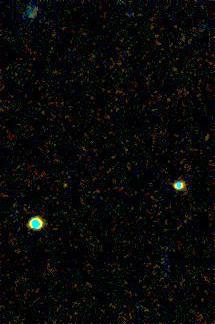star: (50, 170, 80, 200)
